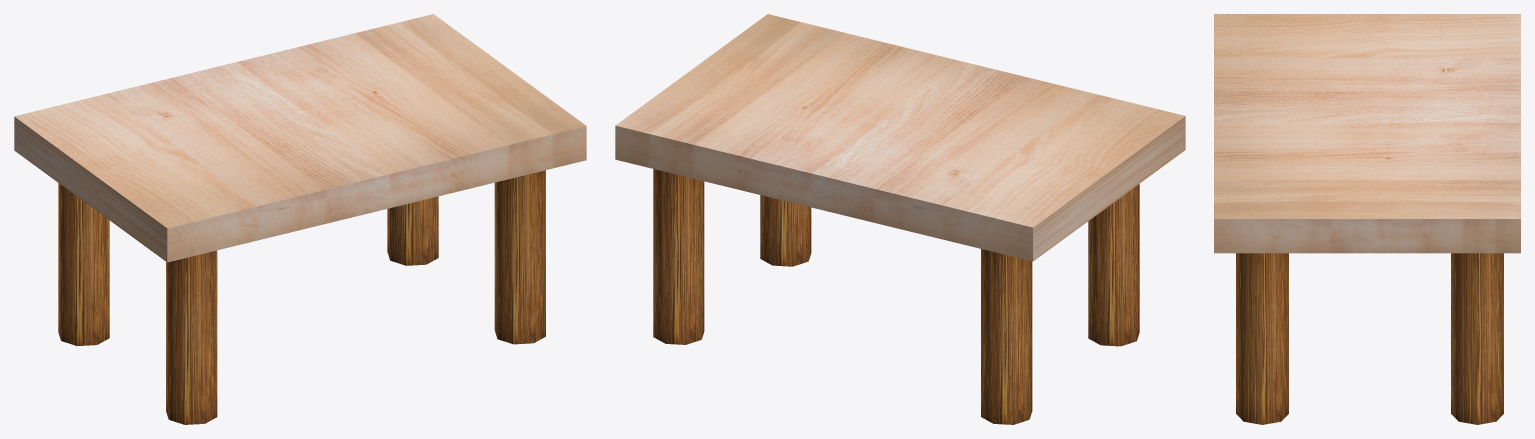
File: tablesmall.gltf
3 views of the same model, side by side, from view 1: azimuth 30°, elevation 25°; view 2: azimuth 150°, elevation 25°; view 3: azimuth 270°, elevation 25° (orthographic).
Parts seen in each view (by area): view 1: Node; view 2: Node; view 3: Node.
Part boxes in pixels (x1=…): Node: x1=14, y1=14, x2=586, y2=424; Node: x1=615, y1=14, x2=1185, y2=424; Node: x1=1214, y1=14, x2=1520, y2=424.
Size of the model in its own units: 10.08 by 4.93 by 6.37.
Materials: 2 (2 with a texture image).
